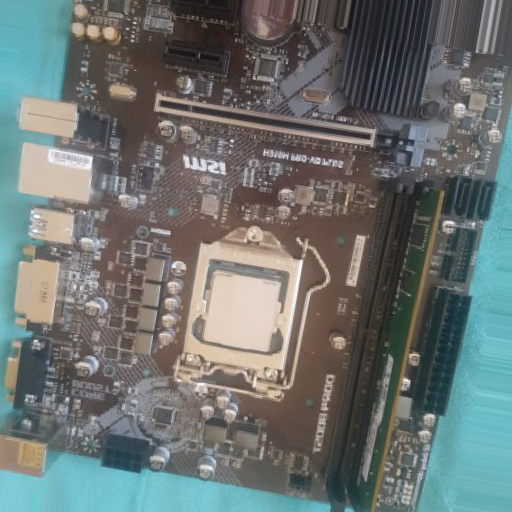CPU: (176, 226, 307, 400)
GPU: (152, 92, 426, 166)
MOTHERBOARD: (1, 17, 505, 510)
RAM: (323, 176, 449, 512)
